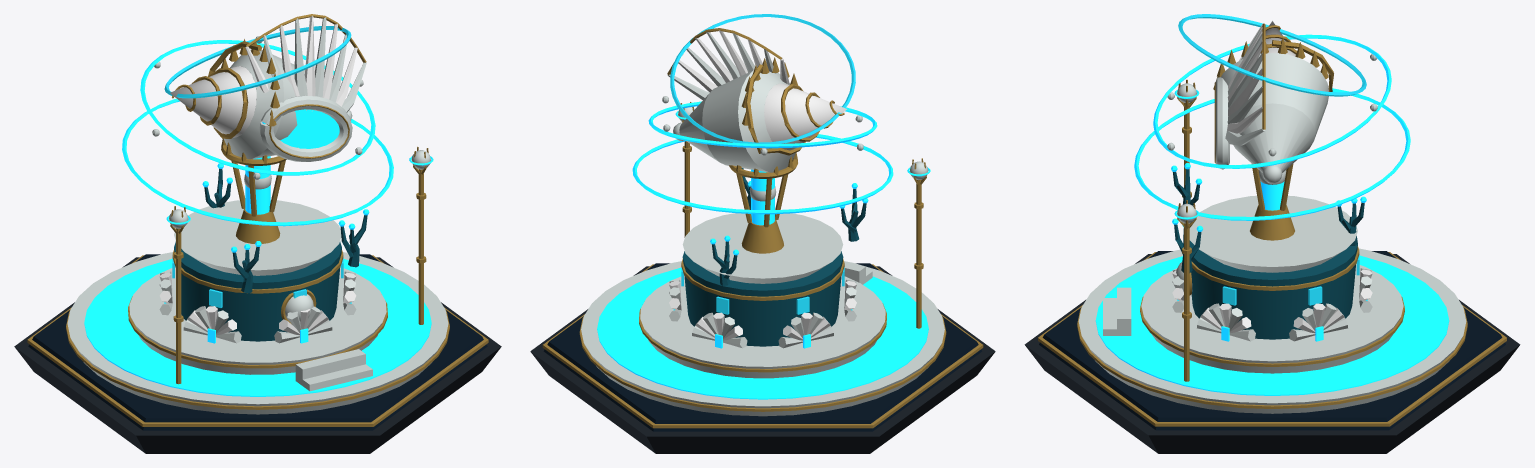
Rendered from poseidon_tutor_structure_3.glb.
3 views of the same model, side by side, from view 1: azimuth 30°, elevation 25°; view 2: azimuth 150°, elevation 25°; view 3: azimuth 270°, elevation 25° (orthographic). The views are drawn at different scales.
Parts seen in each view (by area): view 1: poseidon_tutor_structure_3; view 2: poseidon_tutor_structure_3; view 3: poseidon_tutor_structure_3.
Boxes of the visible parts, left/top/right/bottom form: poseidon_tutor_structure_3: left=14, top=14, right=501, bottom=453; poseidon_tutor_structure_3: left=530, top=14, right=995, bottom=453; poseidon_tutor_structure_3: left=1024, top=14, right=1520, bottom=453.
Bounding box in the file's own units: 1.51 × 1.38 × 1.74.
1 material, 1 textured.
